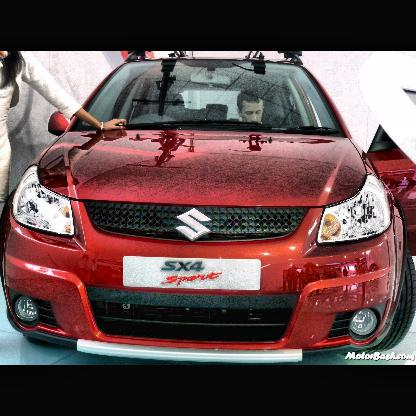Suzuki SX4 Hatchback 2012: (3, 52, 416, 365)
